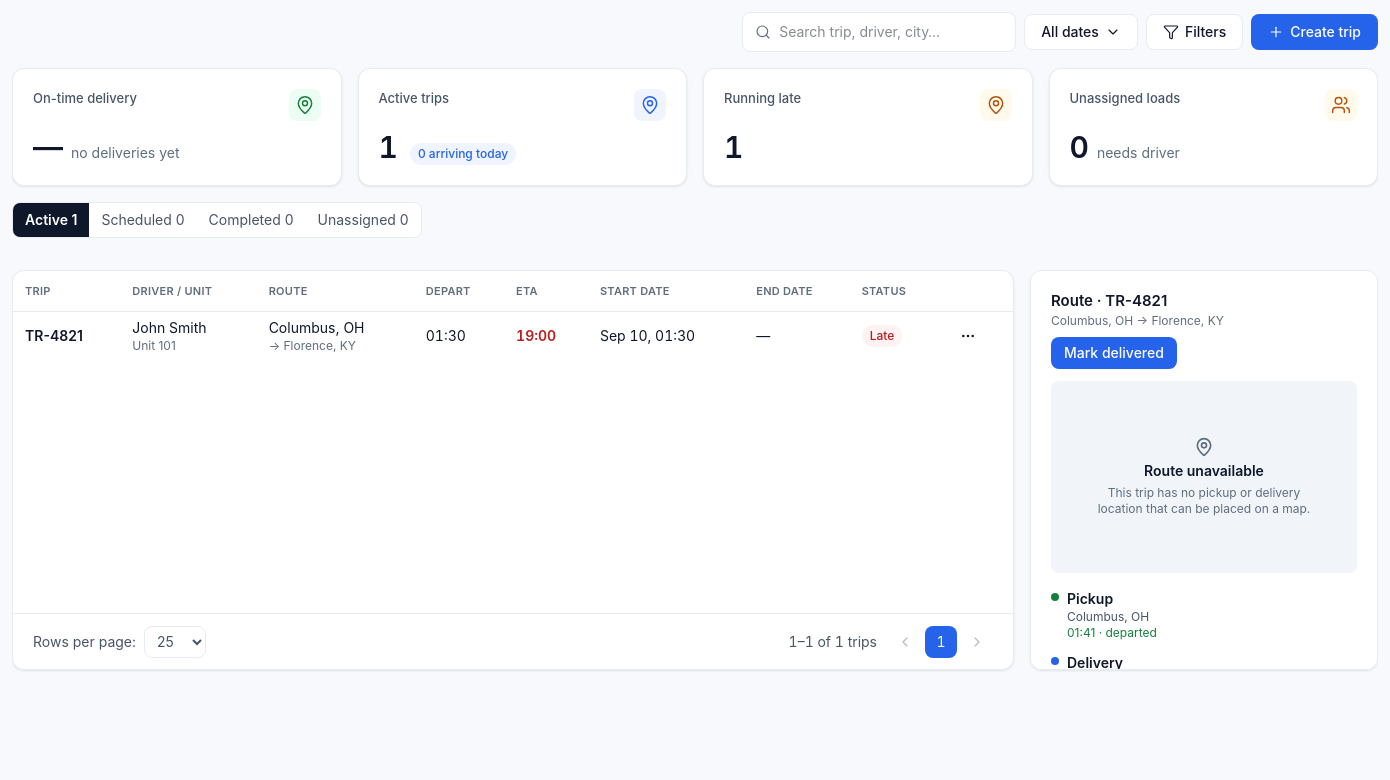
Test: W-11 Dispatch & Trips › Auto-assign names the refusal instead of a bare "Something went wrong."
Check: the text "TR-4821" is shown, box top-left (25, 326), bottom-right (83, 344)
Click the button "Unassigned 0". click: point(363, 220)
box: top-left (306, 203), bottom-right (421, 237)
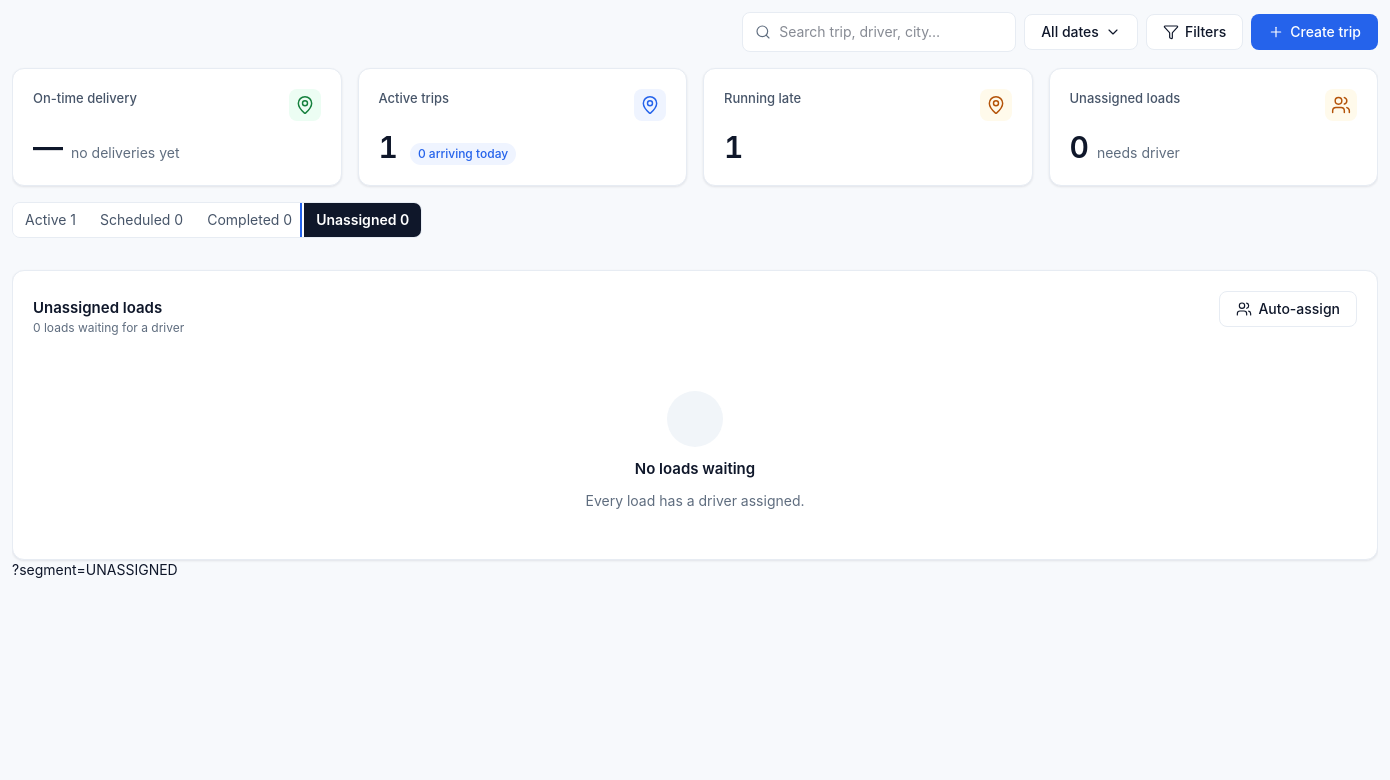
Click the button "Auto-assign". click: point(1288, 309)
box: top-left (1219, 291), bottom-right (1357, 327)
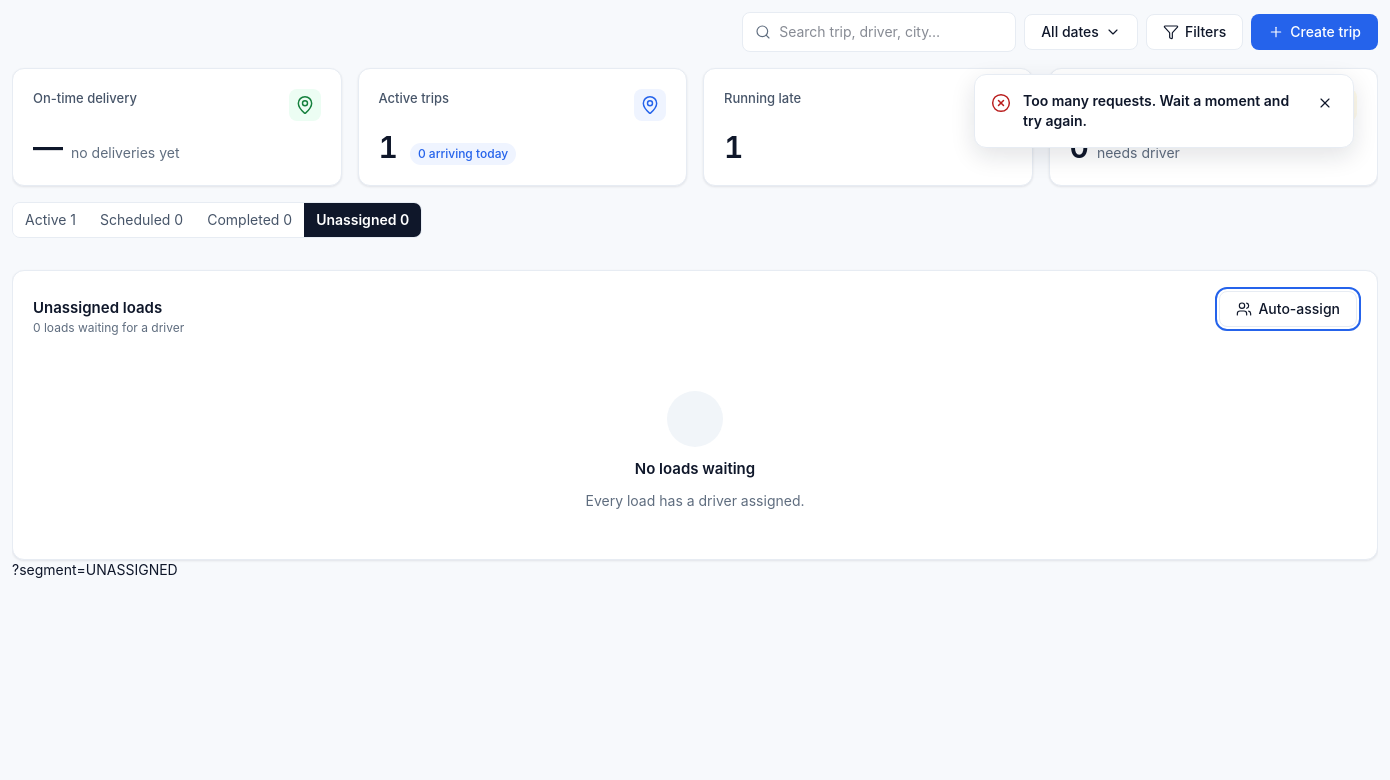
Check: the text "Too many requests. Wait a moment and try again." is shown, box top-left (1023, 91), bottom-right (1301, 131)
